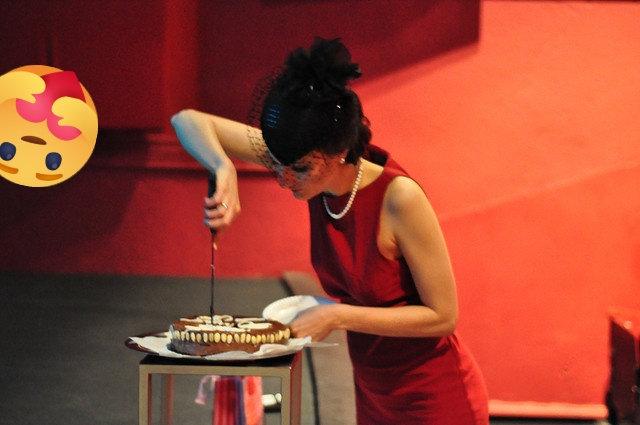care: (0, 65, 98, 187)
